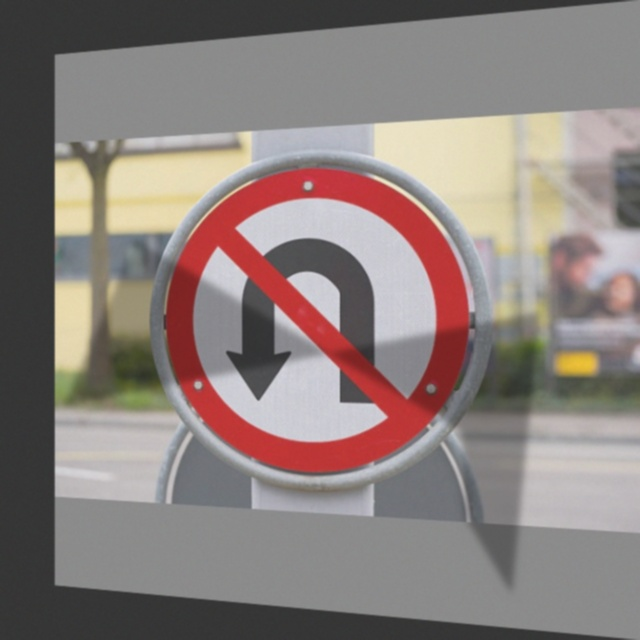U_Turn_Prohibited: (154, 146, 492, 499)
